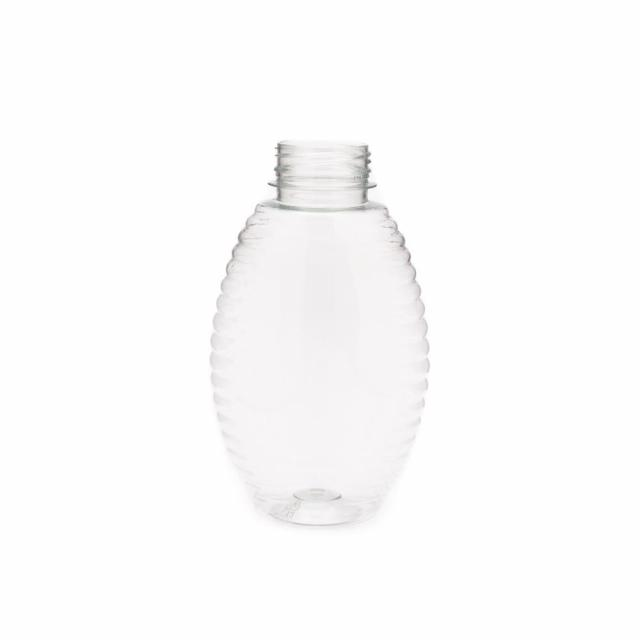plastic_bottle: (215, 145, 430, 527)
